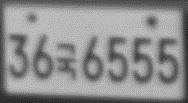3: (6, 32, 30, 80)
5: (106, 35, 130, 83), (131, 36, 154, 83), (157, 36, 179, 84)
6: (80, 34, 105, 81), (31, 33, 54, 80)
국: (55, 41, 79, 81)
